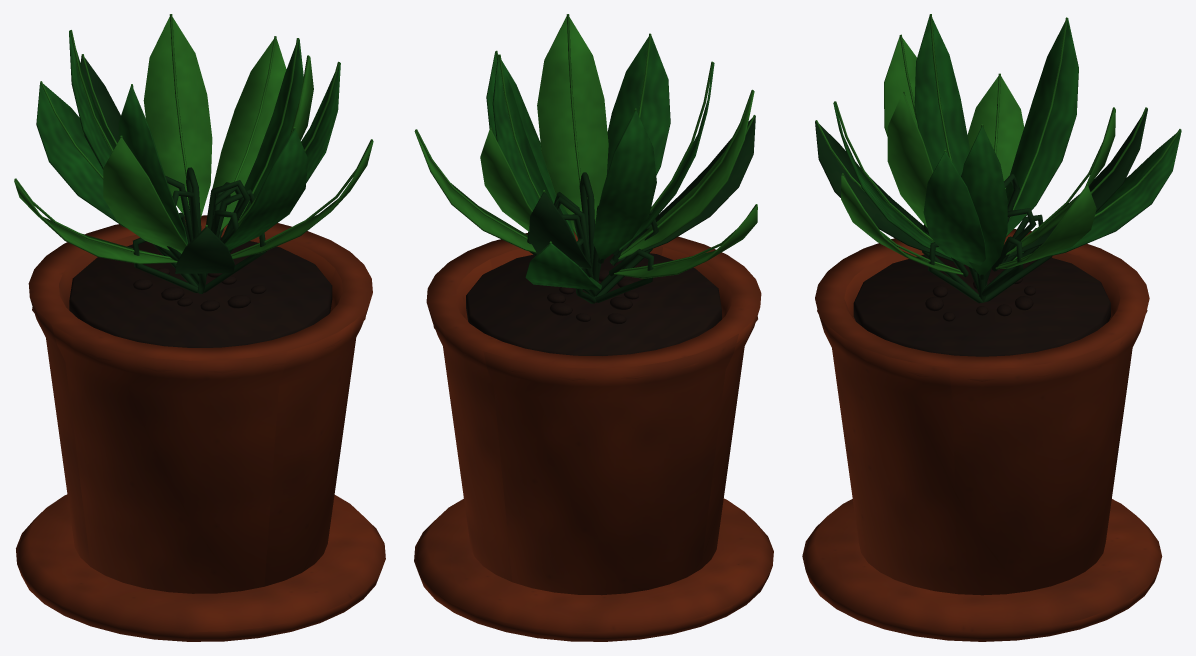
File: potted_plant_LOD1.glb
The picture shows the model from 3 angles, left to right: view 1: azimuth 30°, elevation 25°; view 2: azimuth 150°, elevation 25°; view 3: azimuth 270°, elevation 25°; orthographic projection. The views are drawn at different scales.
Visible parts, largest first — view 1: Closed double-wall aged terracotta pot, Recessed terracotta saucer, Dark granular soil, Pointed glossy leaf 2, Pointed glossy leaf 1, Pointed glossy leaf 7, Pointed glossy leaf 3, Pointed glossy leaf 10, Pointed glossy leaf 0, Pointed glossy leaf 8, Pointed glossy leaf 5, Pointed glossy leaf 9 (+8 smaller); view 2: Closed double-wall aged terracotta pot, Recessed terracotta saucer, Dark granular soil, Pointed glossy leaf 11, Pointed glossy leaf 5, Pointed glossy leaf 10, Pointed glossy leaf 0, Pointed glossy leaf 7, Pointed glossy leaf 2, Pointed glossy leaf 9, Pointed glossy leaf 4, Pointed glossy leaf 3 (+8 smaller); view 3: Closed double-wall aged terracotta pot, Recessed terracotta saucer, Dark granular soil, Pointed glossy leaf 5, Pointed glossy leaf 8, Pointed glossy leaf 13, Pointed glossy leaf 0, Pointed glossy leaf 3, Pointed glossy leaf 11, Pointed glossy leaf 6, Pointed glossy leaf 9, Pointed glossy leaf 1 (+8 smaller).
Boxes of the visible parts, x1,y1,x2,y2 form: Closed double-wall aged terracotta pot: (28,215,372,593); Recessed terracotta saucer: (16,494,385,641); Dark granular soil: (69,237,332,347); Pointed glossy leaf 2: (143,16,212,217); Pointed glossy leaf 1: (212,38,286,231); Pointed glossy leaf 7: (103,137,187,253); Pointed glossy leaf 3: (36,82,125,227); Pointed glossy leaf 10: (224,129,308,250); Pointed glossy leaf 0: (236,38,303,215); Pointed glossy leaf 8: (118,85,187,244); Pointed glossy leaf 5: (69,31,116,169); Pointed glossy leaf 9: (175,227,234,273); Closed double-wall aged terracotta pot: (426,230,761,595); Recessed terracotta saucer: (414,498,773,641); Dark granular soil: (466,253,721,355); Pointed glossy leaf 11: (537,16,608,223); Pointed glossy leaf 5: (593,110,656,259); Pointed glossy leaf 10: (606,36,670,175); Pointed glossy leaf 0: (492,55,553,210); Pointed glossy leaf 7: (618,91,754,259); Pointed glossy leaf 2: (480,129,532,231); Pointed glossy leaf 9: (618,116,755,261); Pointed glossy leaf 4: (529,192,591,269); Pointed glossy leaf 3: (525,243,601,290); Closed double-wall aged terracotta pot: (815,229,1149,595); Recessed terracotta saucer: (802,499,1162,641); Dark granular soil: (853,254,1110,356); Pointed glossy leaf 5: (1005,18,1078,236); Pointed glossy leaf 8: (914,16,969,175); Pointed glossy leaf 13: (923,151,985,268); Pointed glossy leaf 0: (961,126,1007,275); Pointed glossy leaf 3: (1014,130,1181,262); Pointed glossy leaf 11: (887,93,933,227); Pointed glossy leaf 6: (967,76,1024,188); Pointed glossy leaf 9: (815,121,953,261); Pointed glossy leaf 1: (995,185,1096,269).
Size of the model in its own units: 0.3623 by 0.54 by 0.3626.
Materials: 5 (5 with a texture image).
